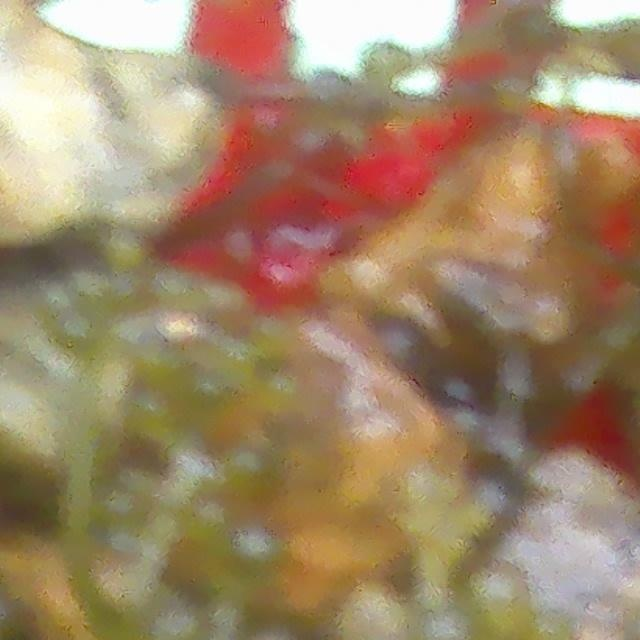SeaGrape: (360, 311, 432, 400), (336, 583, 405, 640), (433, 367, 486, 418)
